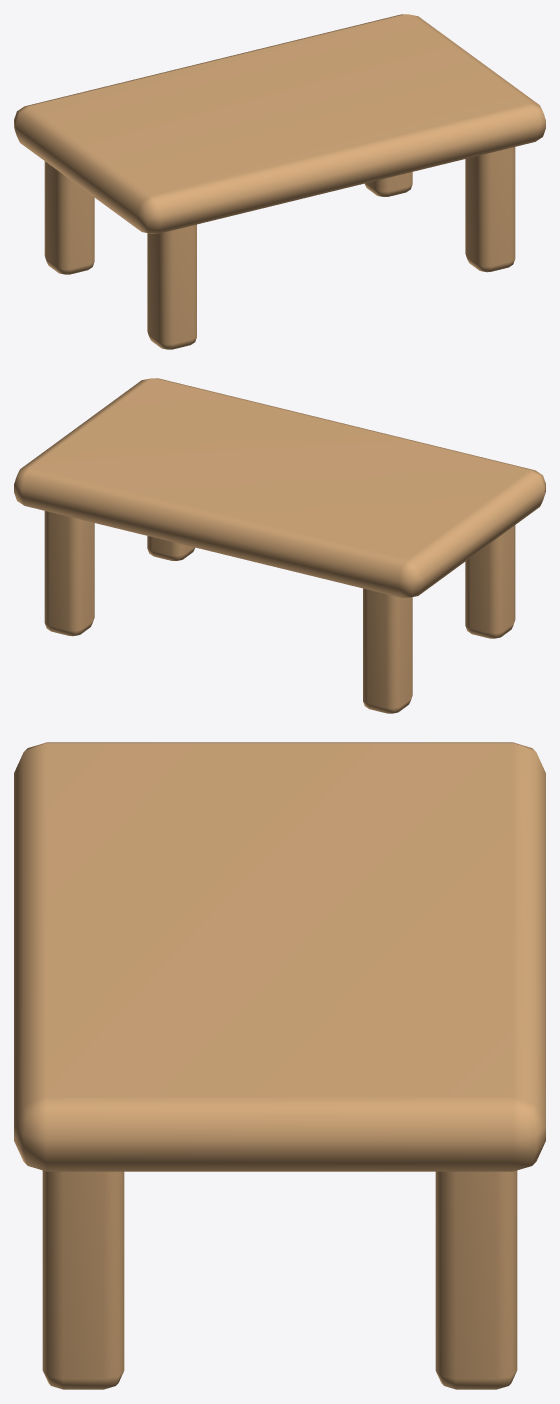
The model's file is CoffeeTable.fbx.
3 renders of one model, top to bottom at view 1: azimuth 30°, elevation 25°; view 2: azimuth 150°, elevation 25°; view 3: azimuth 270°, elevation 25°, orthographic. The views are drawn at different scales.
Parts seen in each view (by area): view 1: CoffeeTable_Top, CoffeeTable_Leg.002, CoffeeTable_Leg, CoffeeTable_Leg.001, CoffeeTable_Leg.003; view 2: CoffeeTable_Top, CoffeeTable_Leg.003, CoffeeTable_Leg.001, CoffeeTable_Leg, CoffeeTable_Leg.002; view 3: CoffeeTable_Top, CoffeeTable_Leg.002, CoffeeTable_Leg.003.
Part boxes in pixels (<box>): CoffeeTable_Top: <box>14,14,545,233</box>; CoffeeTable_Leg.002: <box>465,147,515,272</box>; CoffeeTable_Leg: <box>147,224,196,349</box>; CoffeeTable_Leg.001: <box>44,161,94,274</box>; CoffeeTable_Leg.003: <box>365,172,412,196</box>; CoffeeTable_Top: <box>14,378,545,597</box>; CoffeeTable_Leg.003: <box>44,511,94,636</box>; CoffeeTable_Leg.001: <box>363,588,412,713</box>; CoffeeTable_Leg: <box>465,525,515,638</box>; CoffeeTable_Leg.002: <box>147,536,194,560</box>; CoffeeTable_Top: <box>14,742,545,1171</box>; CoffeeTable_Leg.002: <box>42,1170,124,1389</box>; CoffeeTable_Leg.003: <box>435,1170,517,1389</box>.
Size of the model in its own units: 1.1 by 0.42 by 0.65.
